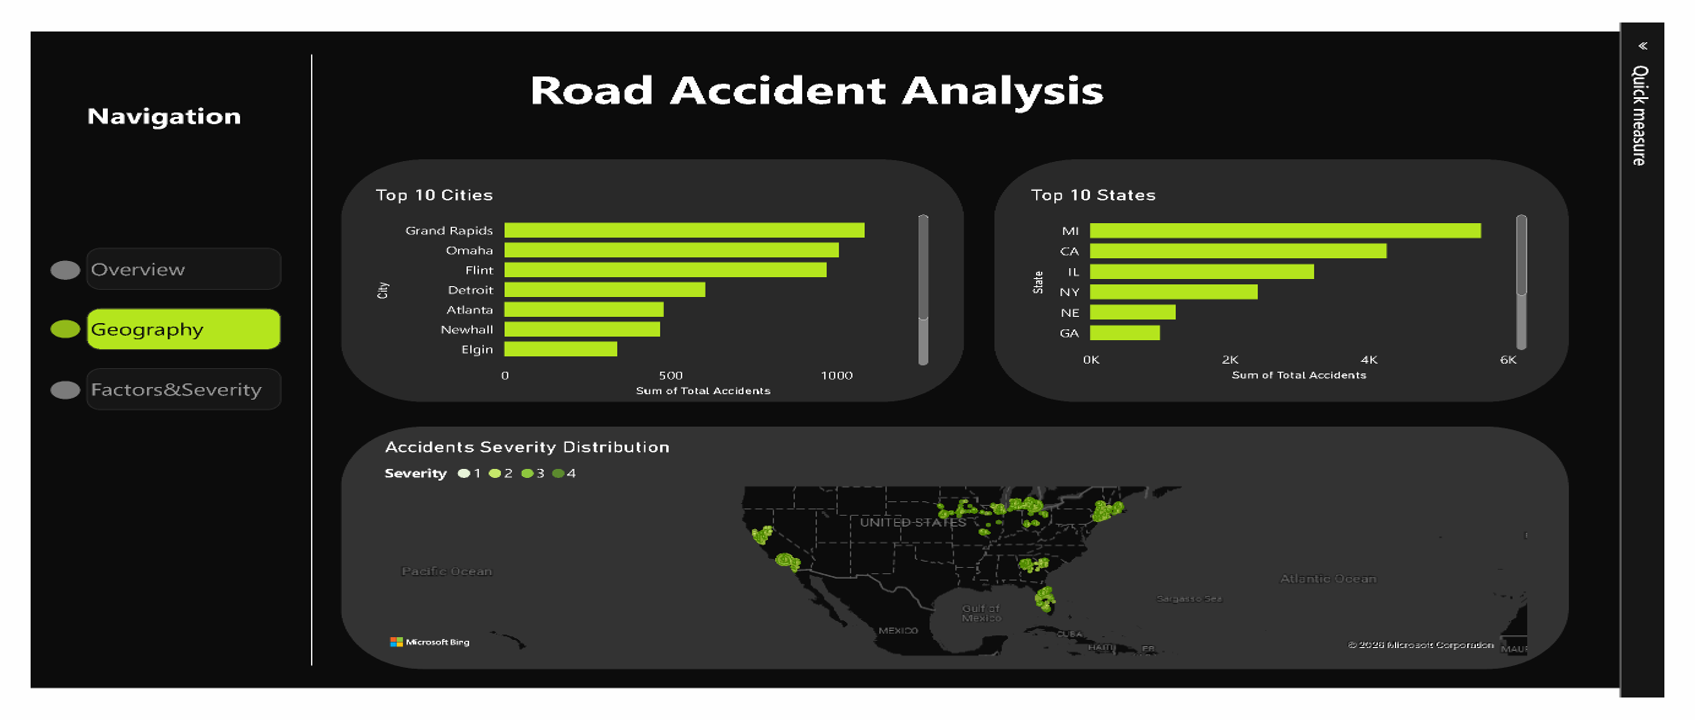

Layout of this report page (visuals, bound fields, positions):
{"tool":"powerbi","page":{"name":"Geography","canvas":[1280,720],"ordinal":1},"visuals":[{"type":"pageNavigator","box":[39.8,231.9,167.4,189.4],"z":0},{"type":"shape","box":[16.5,251.1,23.3,20.6],"z":1000},{"type":"shape","box":[16.5,382.8,23.3,20.6],"z":2000},{"type":"shape","box":[250,432.5,988.8,266.2],"z":3000},{"type":"shape","box":[16.5,315.6,23.3,20.6],"z":4000},{"type":"textbox","box":[39.8,70,167.4,64.5],"z":5000},{"type":"shape","box":[776.2,140,462.5,266.2],"z":6000},{"type":"map","title":"Accidents Severity Distribution","fields":{"Y":["depi projectt (1).Start_Lat"],"X":["depi projectt (1).Start_Lng"],"Size":["depi projectt (1).Total Accidents"],"Series":["depi projectt (1).Severity"]},"box":[280,445,930,243.8],"z":7000},{"type":"textbox","box":[396.2,27.5,487.5,85],"z":8000},{"type":"clusteredBarChart","title":"Top 10 States","fields":{"Category":["top_states.State"],"Y":["Sum(top_states.Total Accidents)"]},"box":[801.2,168.8,408.8,218.8],"z":9000},{"type":"shape","box":[250,140,502.5,266.2],"z":10000},{"type":"clusteredBarChart","title":"Top 10 Cities","fields":{"Category":["top_cities.City"],"Y":["Sum(top_cities.Total Accidents)"]},"box":[272.5,168.8,455,236.2],"z":11000},{"type":"shape","box":[193.8,25,65,670],"z":12000}]}

Visuals, with their boxes on the page's 1280x720 design canvas (x1, y1, x2, y2). These are canvas units, not pixel positions in the 1695x720 screenshot, which may show the page scaled, cropped or inside an application window:
pageNavigator: bbox=(40, 232, 207, 421)
shape: bbox=(16, 251, 40, 272)
shape: bbox=(16, 383, 40, 403)
shape: bbox=(250, 432, 1239, 699)
shape: bbox=(16, 316, 40, 336)
textbox: bbox=(40, 70, 207, 134)
shape: bbox=(776, 140, 1239, 406)
"Accidents Severity Distribution" map: bbox=(280, 445, 1210, 689)
textbox: bbox=(396, 28, 884, 112)
"Top 10 States" clusteredBarChart: bbox=(801, 169, 1210, 388)
shape: bbox=(250, 140, 752, 406)
"Top 10 Cities" clusteredBarChart: bbox=(272, 169, 728, 405)
shape: bbox=(194, 25, 259, 695)
